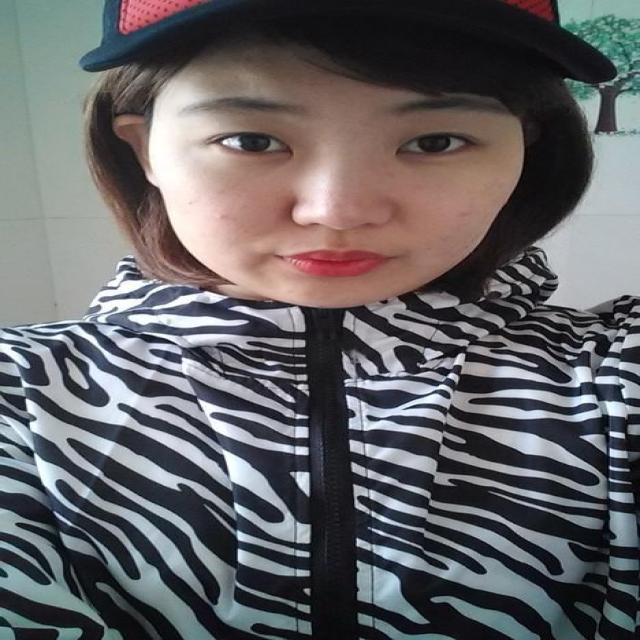long sleeve top: (0, 245, 640, 640)
